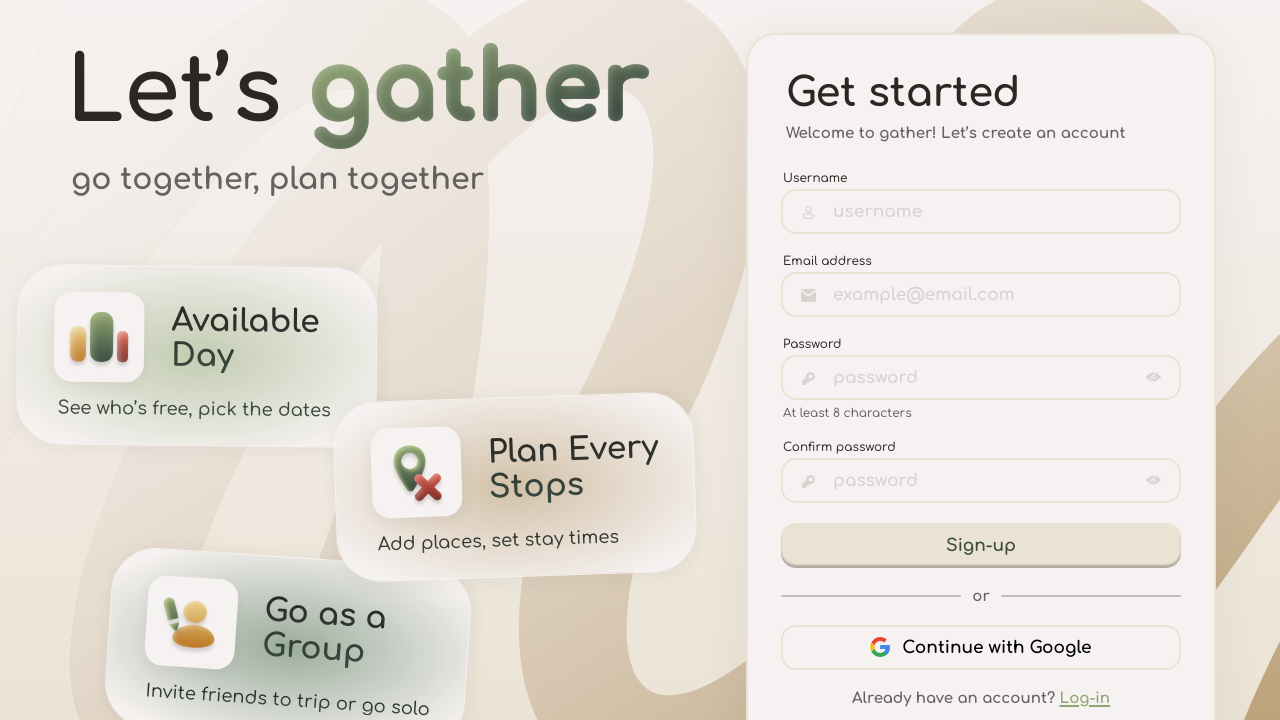
Scenario: Sign-up page › explains a server-side password rule conflict
The width and height of the screenshot is (1280, 720).
Step 1. Type "mild_01" into the field labelled "Username" → (981, 211), box [781,188,1181,234]
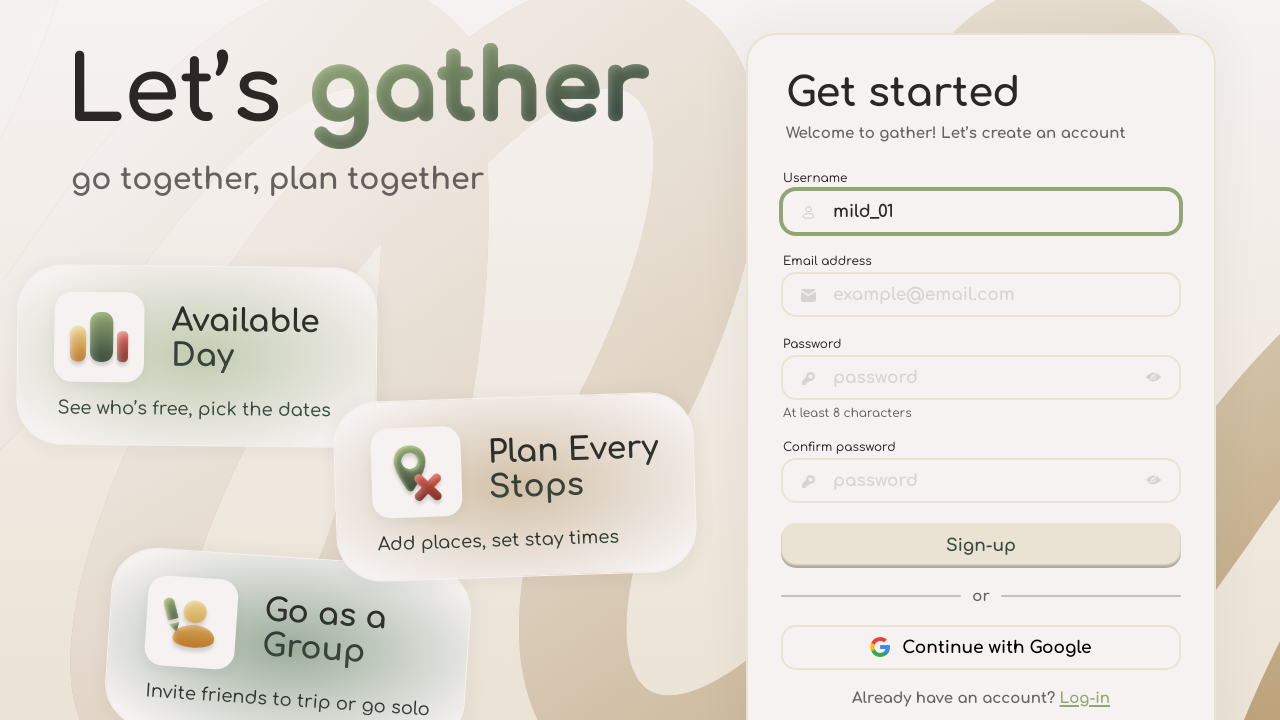
Step 2. Type "mild@example.com" into the field labelled "Email address" → (981, 294), box [781,272,1181,316]
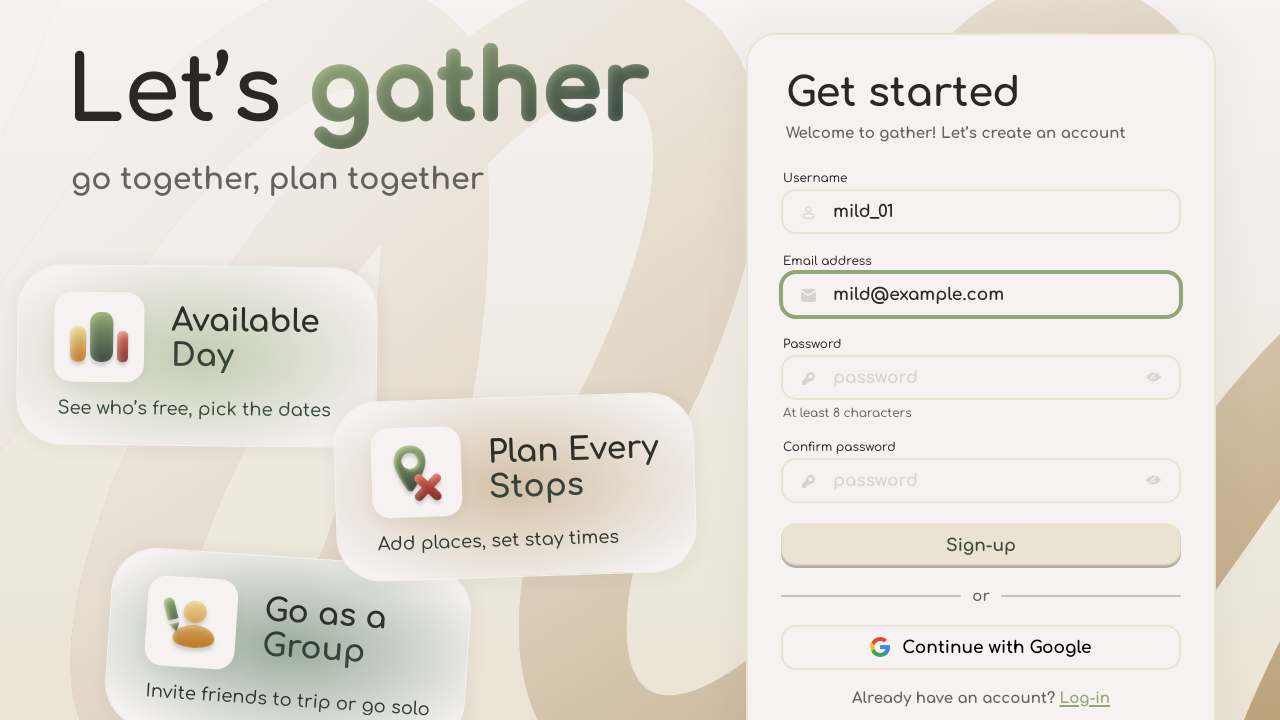
Step 3. Type "password123" into the password field labelled "Password" → (981, 377), box [781,354,1181,400]
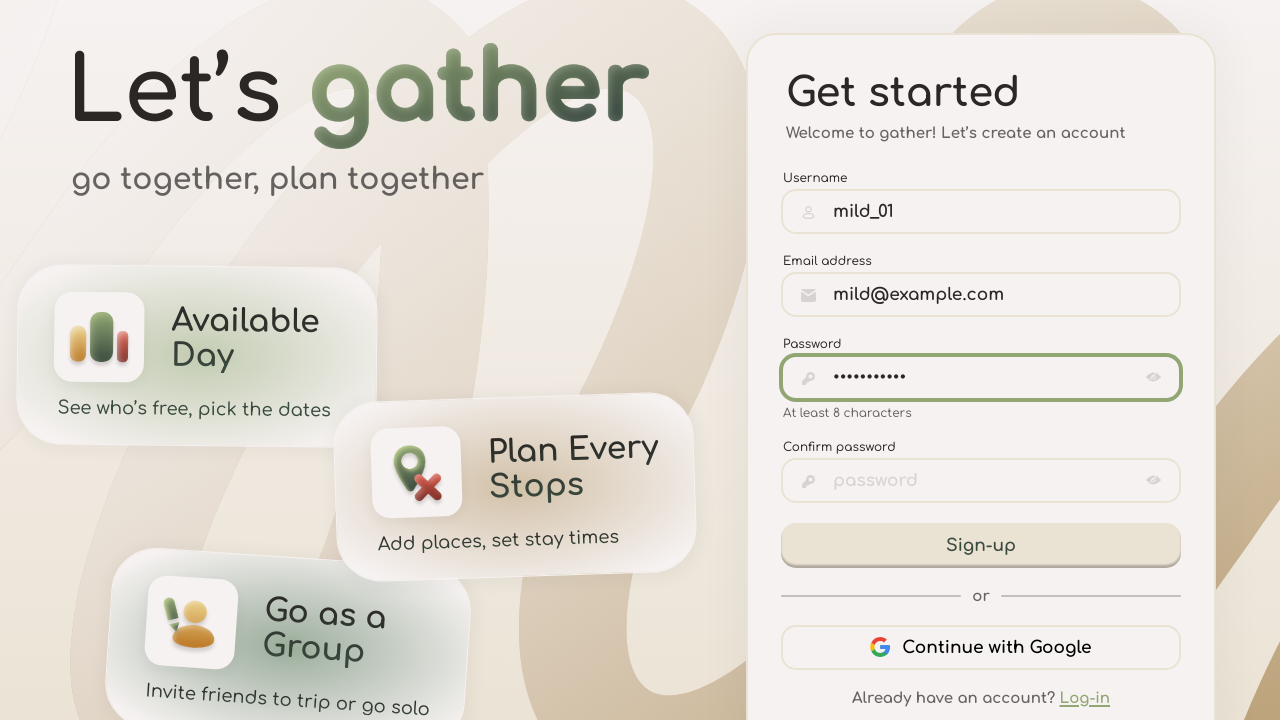
Step 4. Type "password123" into the password field labelled "Confirm password" → (981, 480), box [781,458,1181,502]
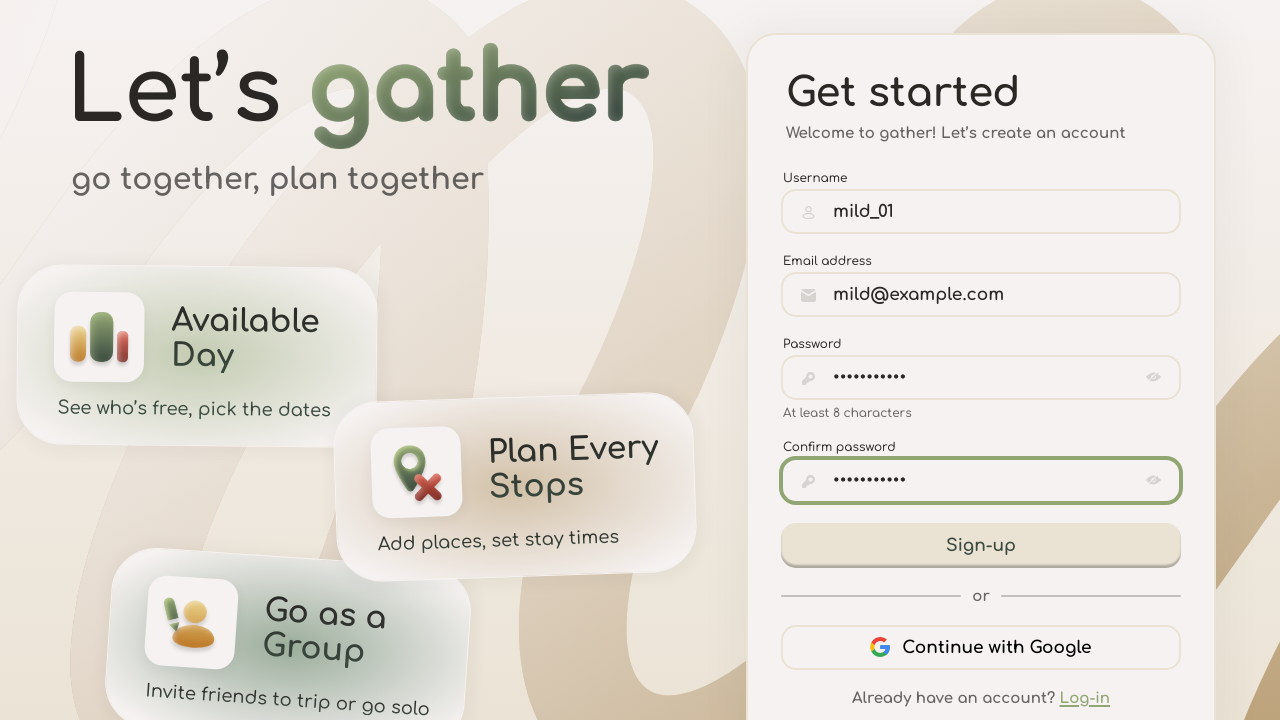
Step 5. Click the button "Sign-up" → (981, 545), box [781,522,1181,568]
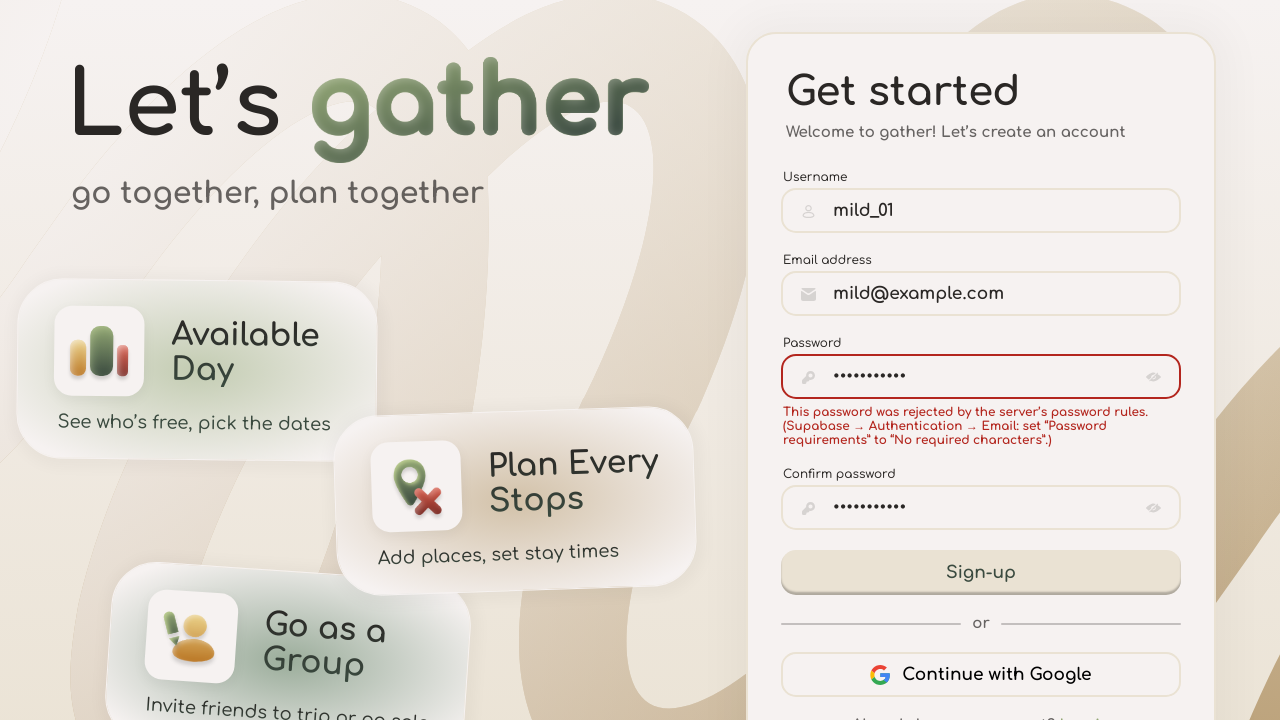
Now the text "This password was rejected by the server’s password rules. (Supabase → Authentication → Email: set “Password requirement" is shown, box [783,405,1148,447]
